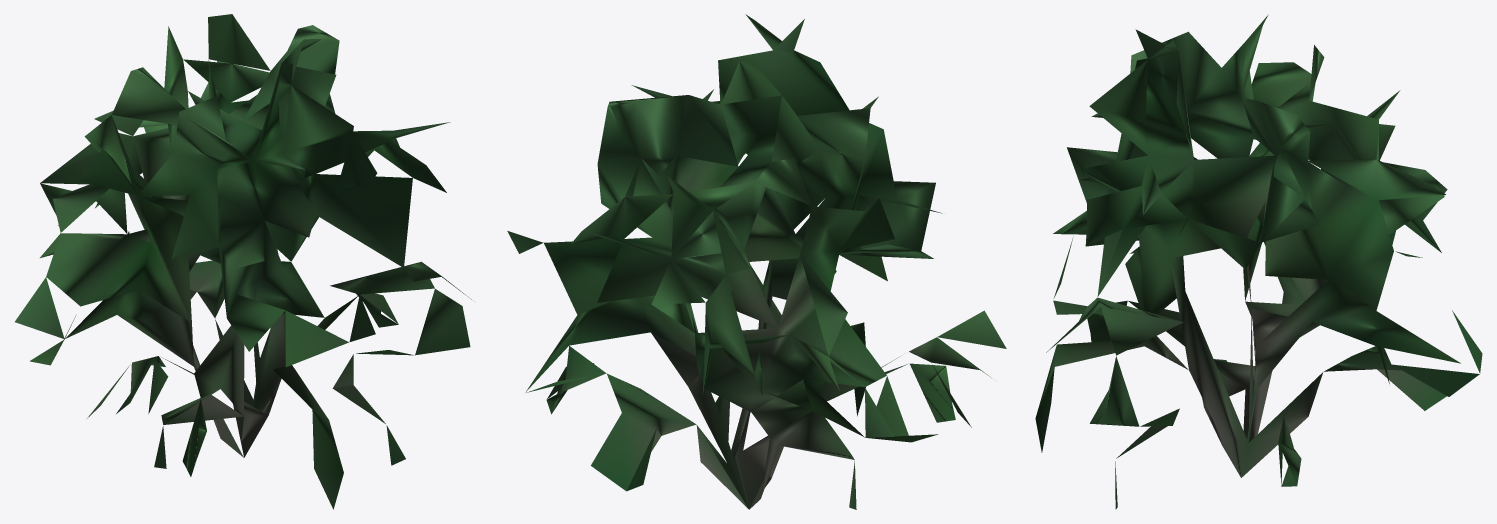
The model's file is bush_far.glb.
The picture shows the model from 3 angles, left to right: view 1: azimuth 30°, elevation 25°; view 2: azimuth 150°, elevation 25°; view 3: azimuth 270°, elevation 25°; orthographic projection. The views are drawn at different scales.
Visible parts, largest first — view 1: bush; view 2: bush; view 3: bush.
Boxes of the visible parts, x1,y1,x2,y2 form: bush: [15, 14, 471, 509]; bush: [507, 14, 1006, 509]; bush: [1035, 14, 1482, 509].
Bounding box in the file's own units: 0.8917 × 1 × 0.895.
